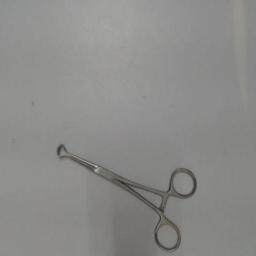Babcock Tissue Forceps: (54, 140, 198, 254)
